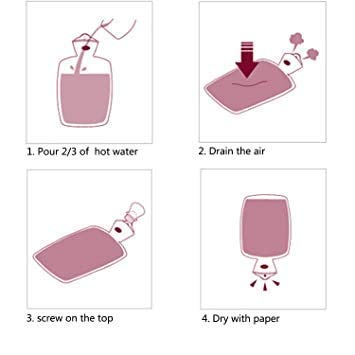2/3: (62, 138, 75, 166)
air: (254, 136, 269, 164)
hot: (95, 138, 110, 166)
of: (79, 138, 89, 166)
paper: (253, 314, 280, 325)
the: (236, 136, 250, 164), (80, 303, 92, 331)
top: (99, 303, 116, 331)
water: (114, 138, 142, 166)
with: (232, 304, 251, 332)
